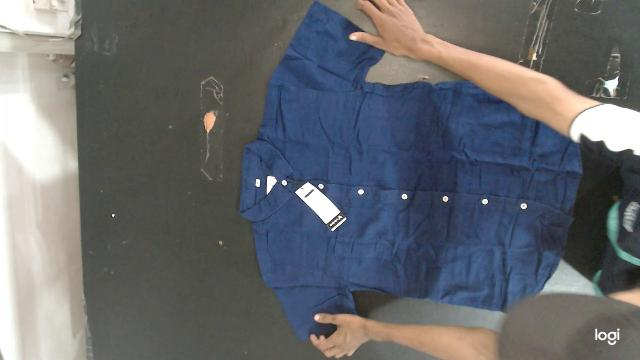new-garment: (240, 2, 581, 340)
